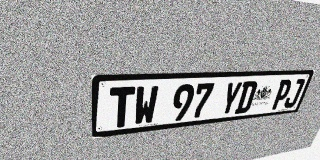7: (189, 83, 215, 119)
9: (170, 84, 196, 121)
D: (234, 81, 259, 114)
J: (282, 79, 306, 108)
P: (270, 79, 294, 110)
T: (109, 86, 135, 129)
W: (133, 85, 159, 126)
Y: (218, 82, 243, 116)
